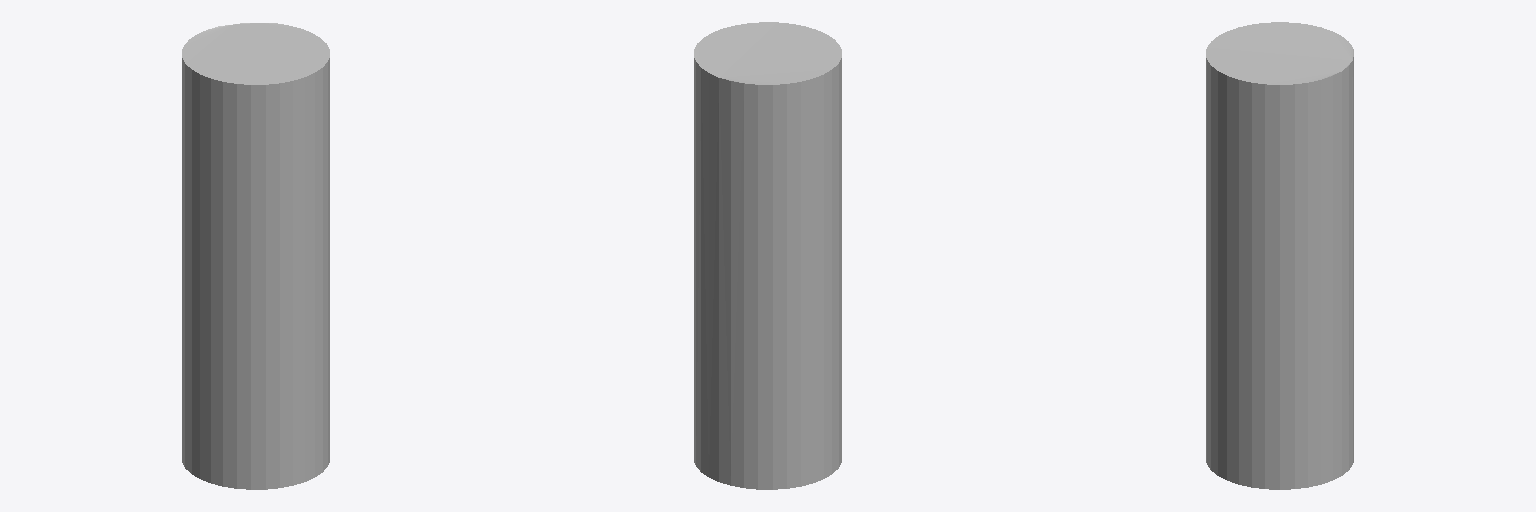
Rendered from pindraft.obj.
3 views of the same model, side by side, from view 1: azimuth 30°, elevation 25°; view 2: azimuth 150°, elevation 25°; view 3: azimuth 270°, elevation 25° (orthographic).
Parts seen in each view (by area): view 1: Cylinder; view 2: Cylinder; view 3: Cylinder.
Boxes of the visible parts, x1=… form: Cylinder: x1=182, y1=23, x2=329, y2=489; Cylinder: x1=694, y1=22, x2=841, y2=489; Cylinder: x1=1206, y1=22, x2=1353, y2=489.
Size of the model in its own units: 1 by 3 by 1.